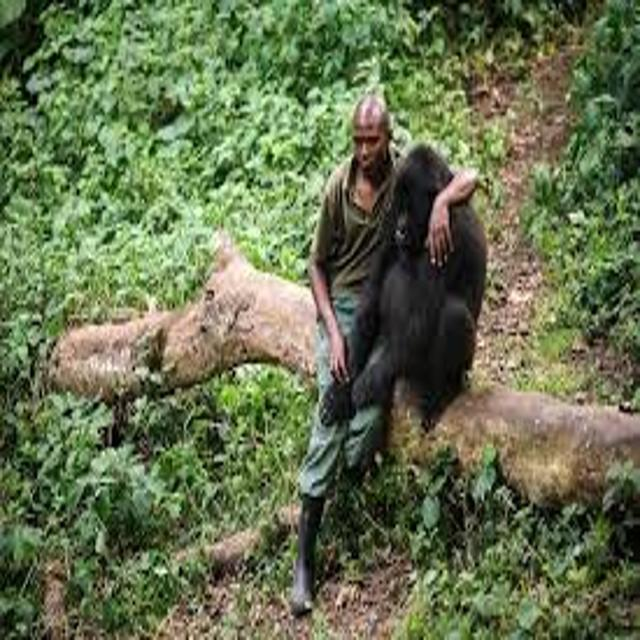poacher: (244, 68, 498, 629)
